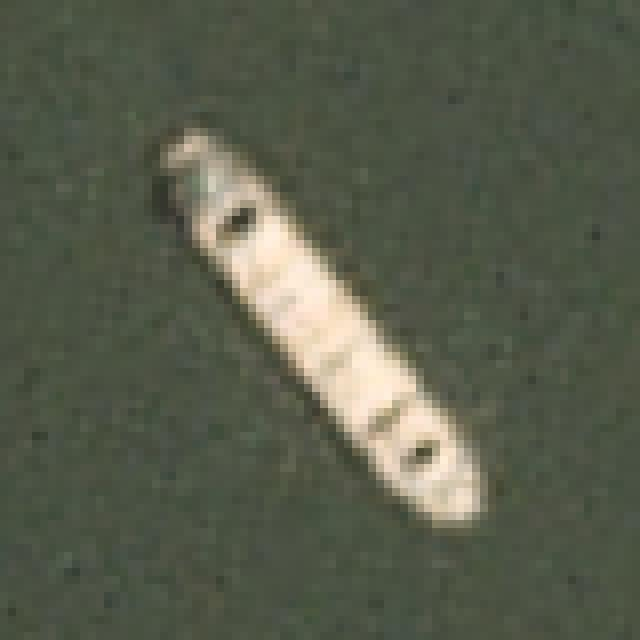ship: (146, 93, 510, 559)
